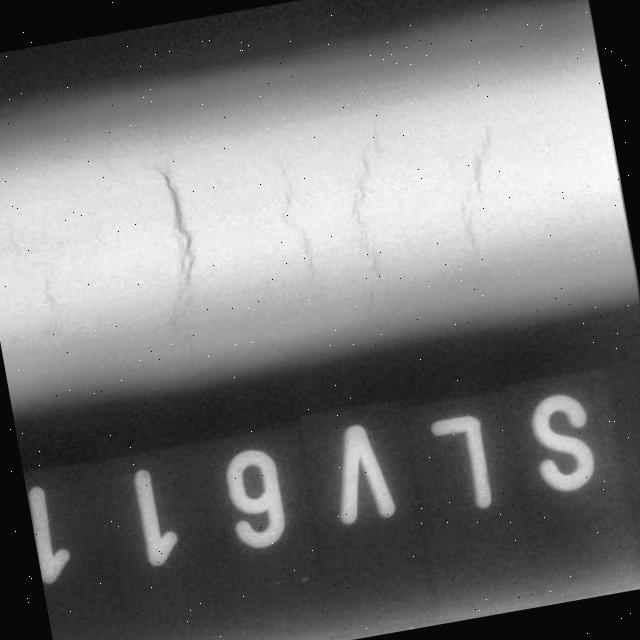Crack: (127, 140, 234, 362), (322, 119, 420, 325), (442, 92, 540, 293), (248, 136, 336, 308), (0, 194, 82, 345)
